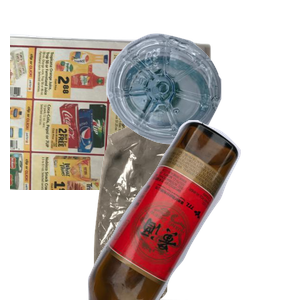glass: (85, 120, 300, 300)
paper: (10, 31, 214, 211)
plastic: (104, 31, 300, 168)
trash: (70, 120, 256, 300)
